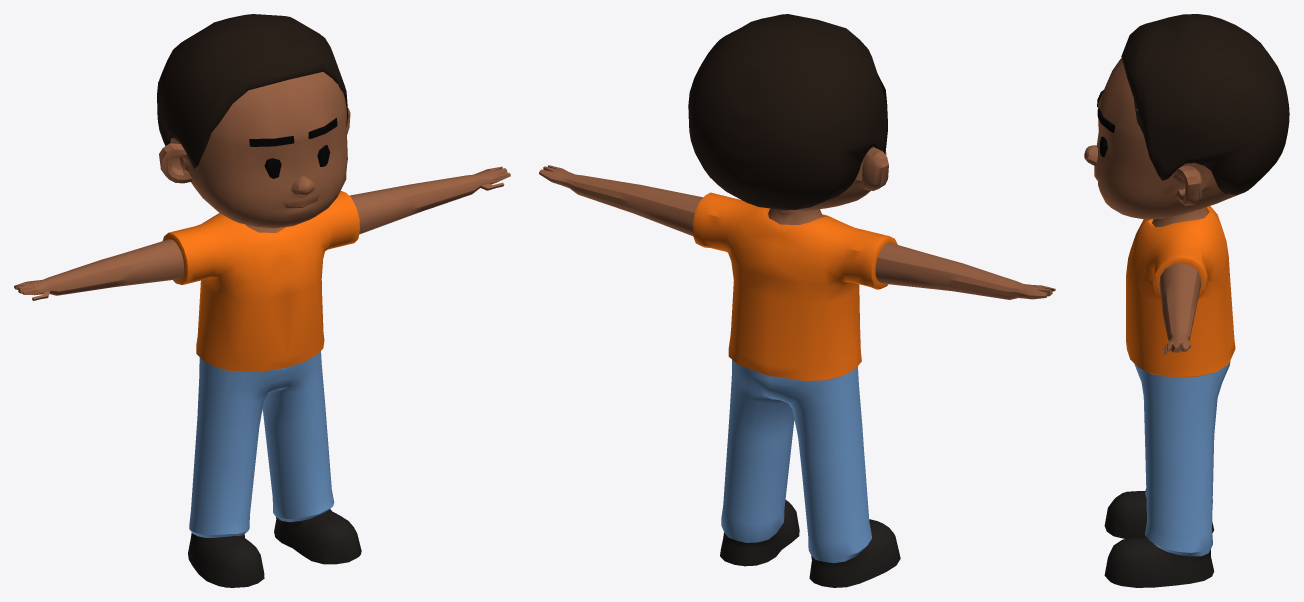
The model's file is tyler_the_Allah.fbx.
3 renders of one model, left to right at view 1: azimuth 30°, elevation 25°; view 2: azimuth 150°, elevation 25°; view 3: azimuth 270°, elevation 25°, orthographic. The views are drawn at different scales.
Parts seen in each view (by area): view 1: body; view 2: body; view 3: body.
Part boxes in pixels (bbox=[...]): body: bbox=[14, 14, 510, 587]; body: bbox=[539, 14, 1055, 587]; body: bbox=[1084, 14, 1289, 587].
Size of the model in its own units: 113 by 115 by 40.7.
